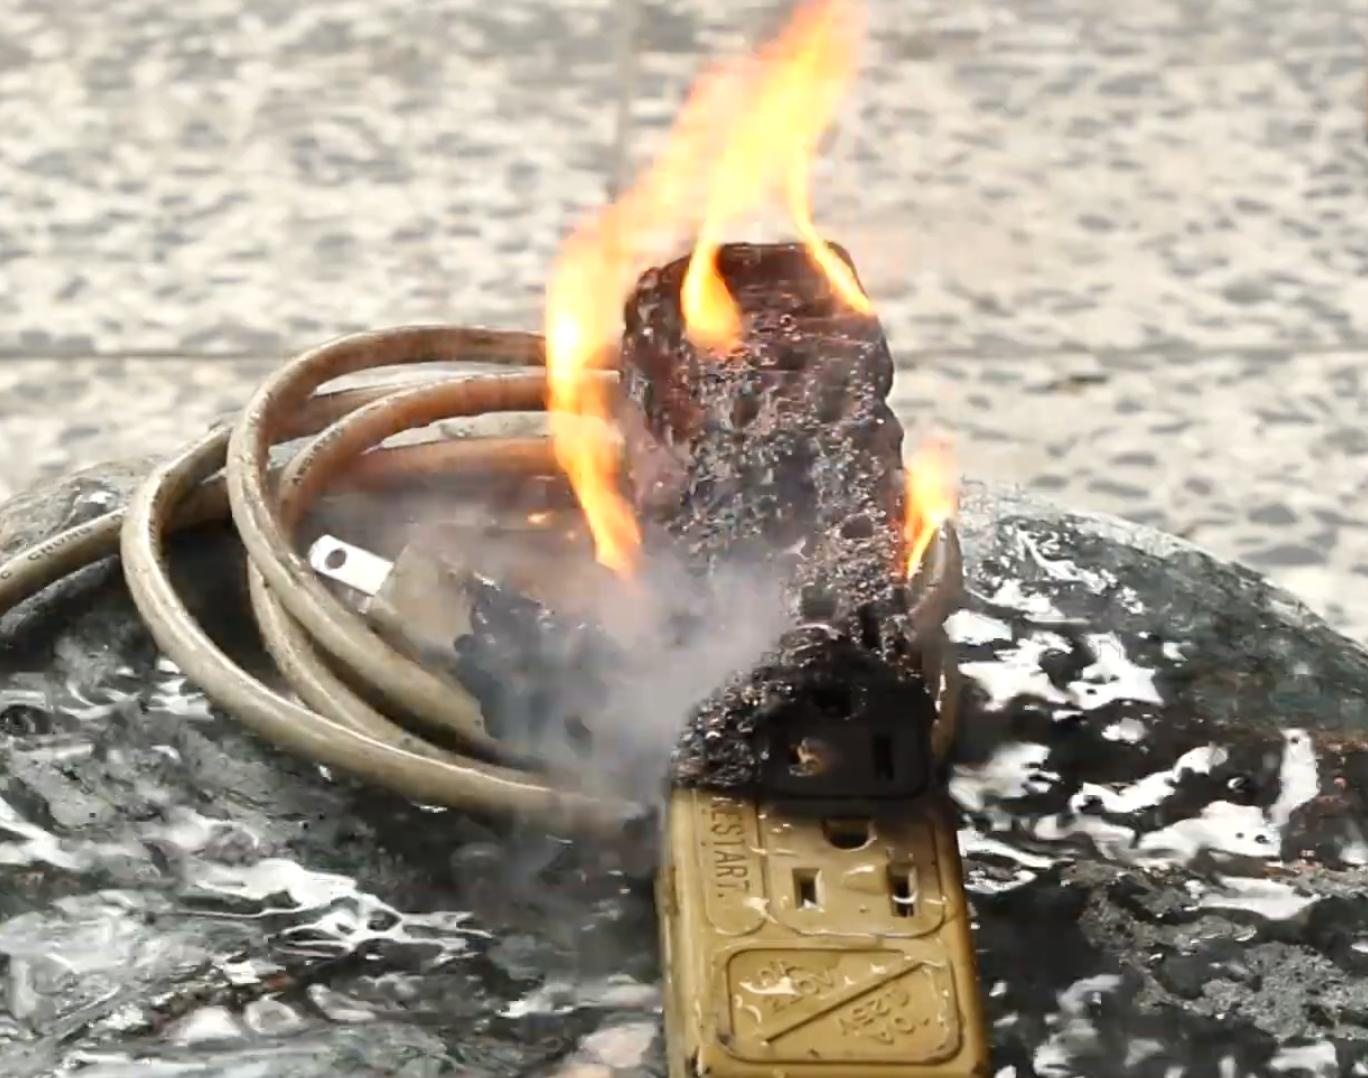fire: (544, 0, 879, 573), (895, 426, 958, 576)
